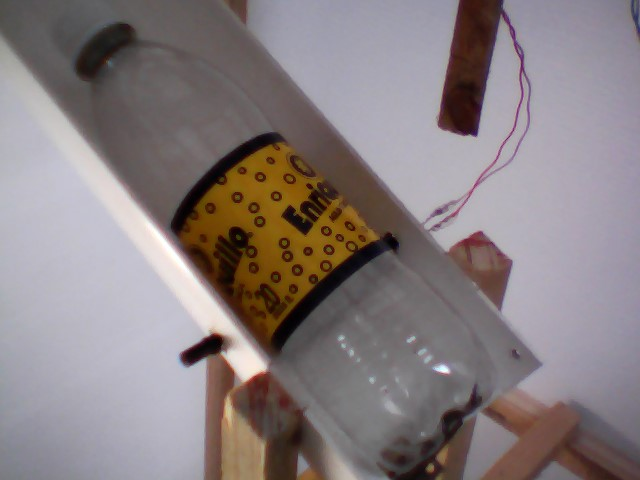plastico: (48, 3, 506, 480)
